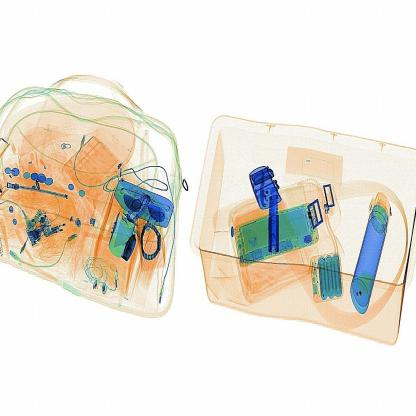pliers: (262, 187, 292, 259)
